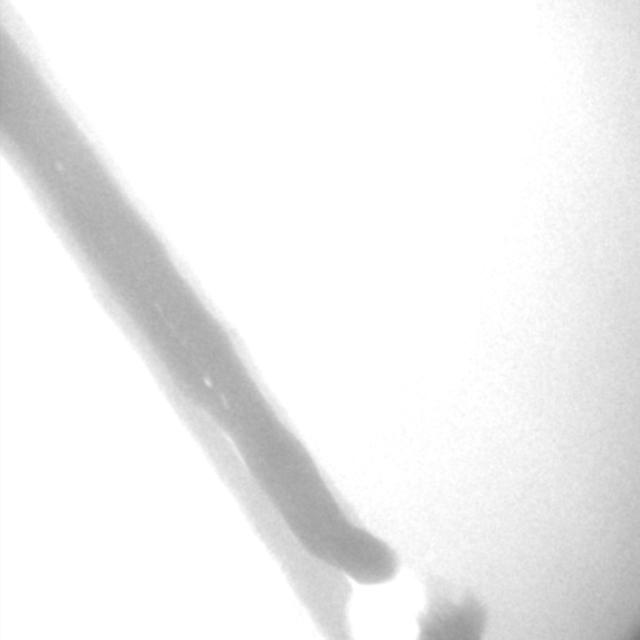broken-arc: (329, 514, 451, 640)
